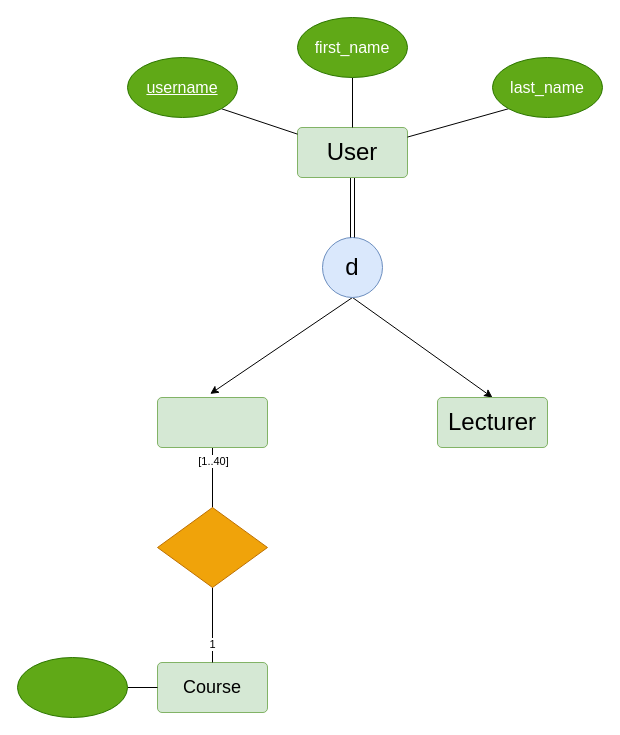
This 620x735 diagram has some shape labels left out. Here are the shapes that lost their labels. From the top down, the centre of each, then its label:
At (x=212, y=422): "Student".
At (x=212, y=547): "participates in".
At (x=72, y=687): "name".
